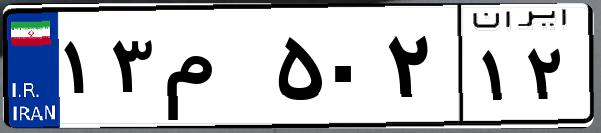0: (330, 28, 385, 110)
1: (57, 26, 110, 100), (475, 38, 525, 113)
2: (385, 28, 445, 110), (525, 38, 570, 115)
3: (110, 28, 158, 98)
5: (270, 28, 330, 110)
م: (158, 20, 270, 120)
